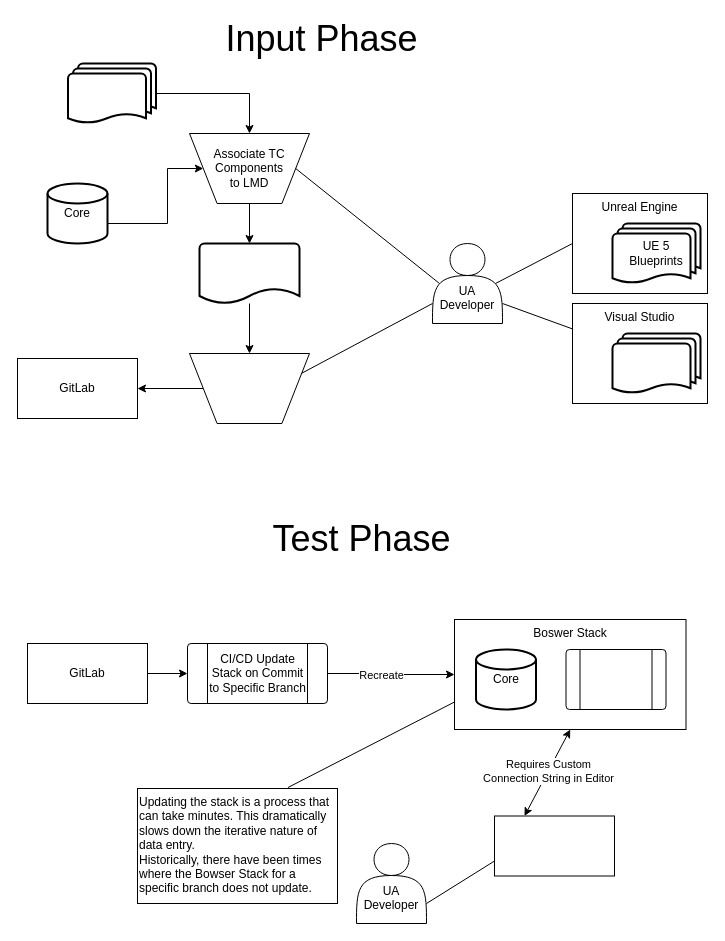
Some shapes in this 725 by 941 pixel diagram are drawn without their labels. The shapes that lost their labels are listed below. From the top down, each one's centre as x and y in pixels, then its label:
At point 111,93: "IETM".
At point 249,273: "SQL".
At point 656,363: "C++ Source Code".
At point 249,388: "Git commit to specific branch on GitLab".
At point 615,679: "API".
At point 554,845: "Trainer in Edit Mode".
